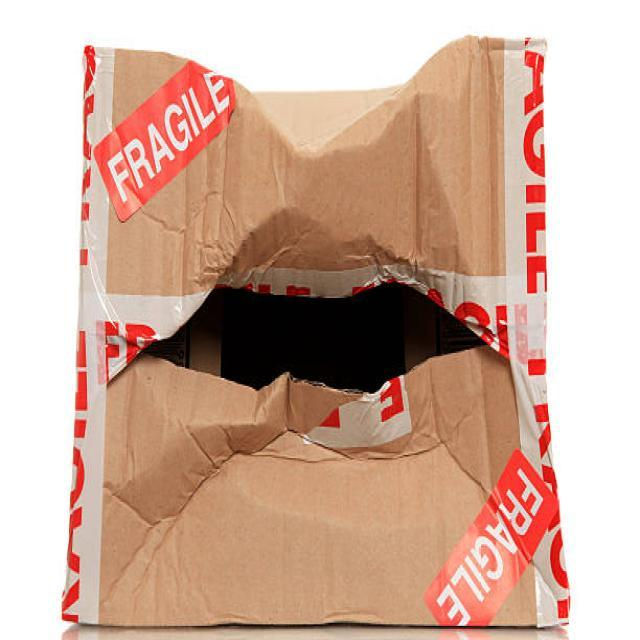box: (55, 68, 543, 574)
